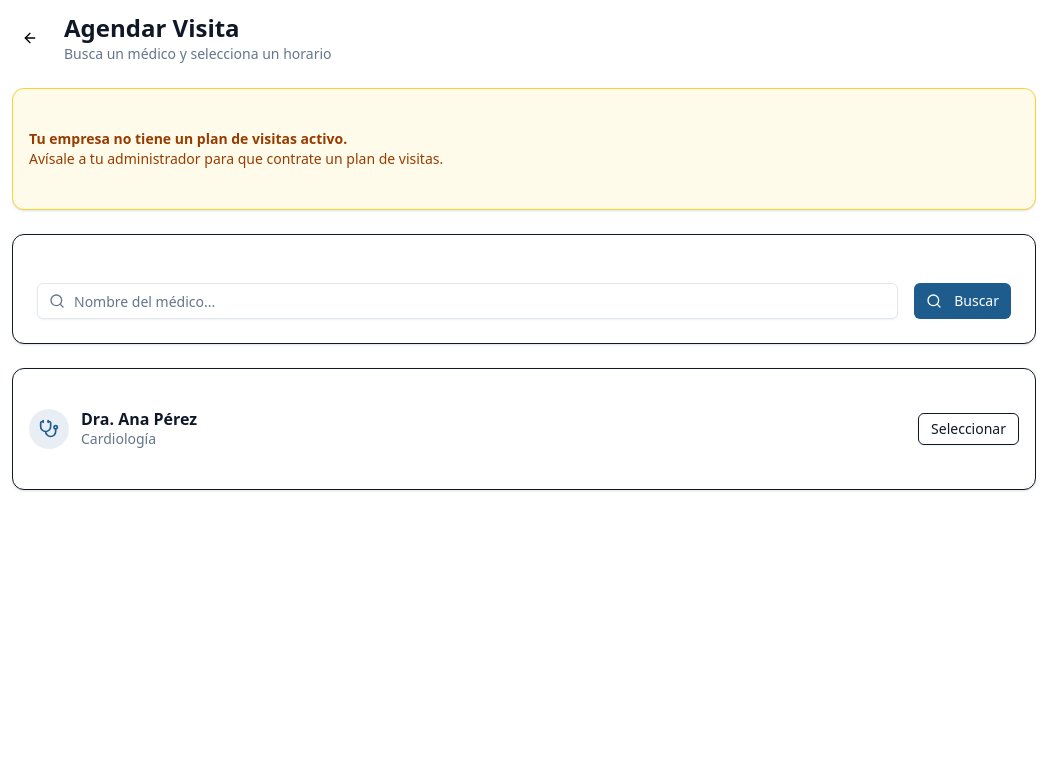
Test: VisitadorAgendarPage — prioridad al agendar › 'otro_laboratorio' salta a la semana de fecha_minima y deshabilita los turnos anteriores
The image size is (1048, 780).
Click the button "Seleccionar": (969, 429) [918,413,1019,445]
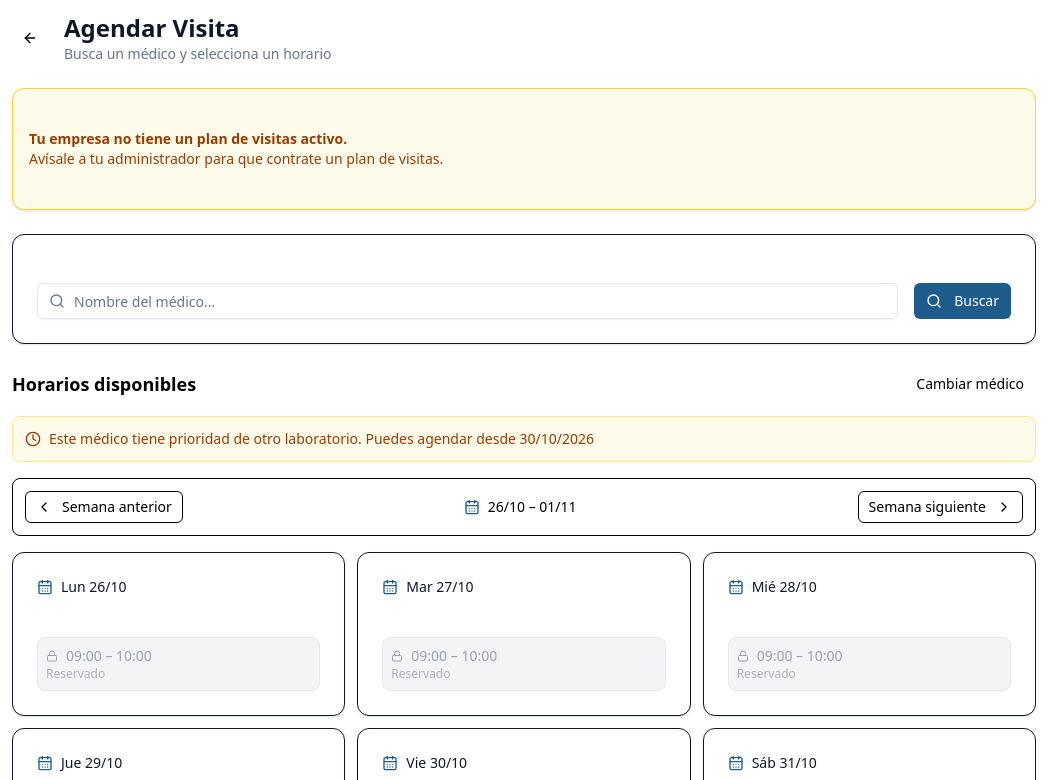
Expected: the heading "Horarios disponibles" is shown, [12,370,196,398]
Expected: the element with test id "prioridad-otro" reads "Este médico tiene prioridad de otro laboratorio. Puedes agendar desde 30/10/2026", [49,429,594,448]
Expected: the text "26/10 – 01/11" is shown, [464,497,577,517]
